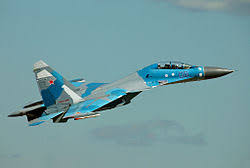maybay_muctieu: (16, 60, 239, 118)
